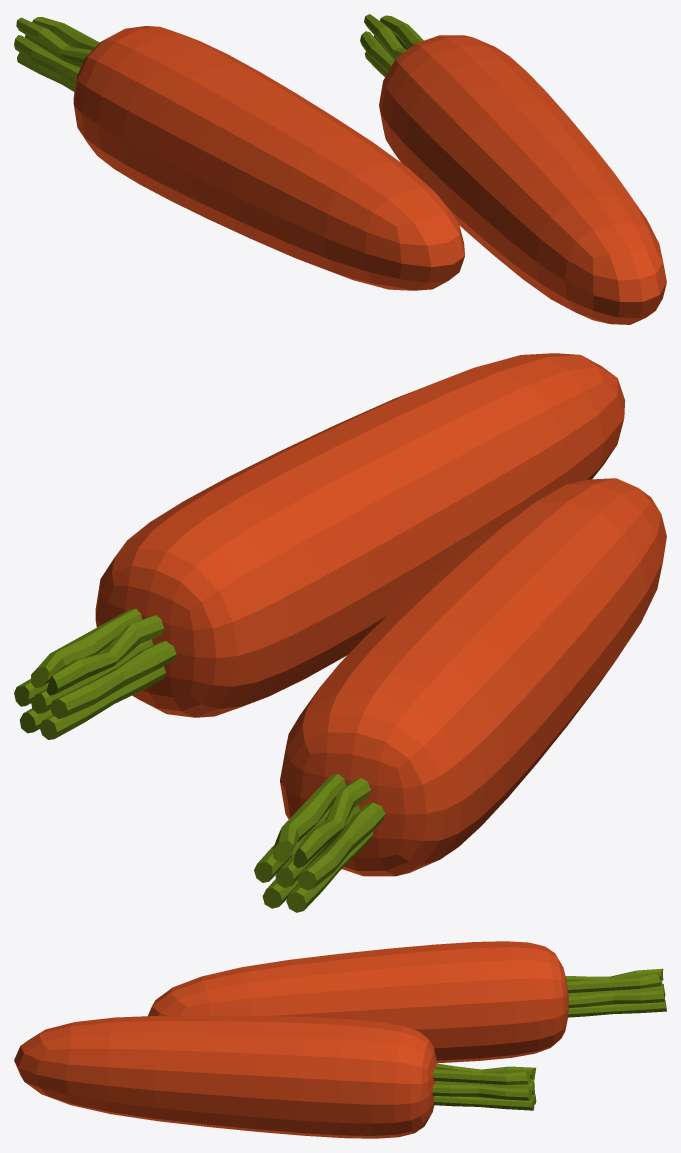
File: Carrots (General).fbx
3 renders of one model, top to bottom at view 1: azimuth 30°, elevation 25°; view 2: azimuth 150°, elevation 25°; view 3: azimuth 270°, elevation 25°, orthographic. The views are drawn at different scales.
Parts seen in each view (by area): view 1: Carrots (General); view 2: Carrots (General); view 3: Carrots (General).
Part boxes in pixels (x1,y1,x2,y2): Carrots (General): (14, 14, 666, 324); Carrots (General): (14, 353, 666, 912); Carrots (General): (14, 941, 666, 1138).
Size of the model in its own units: 19.74 by 7.56 by 42.02.
